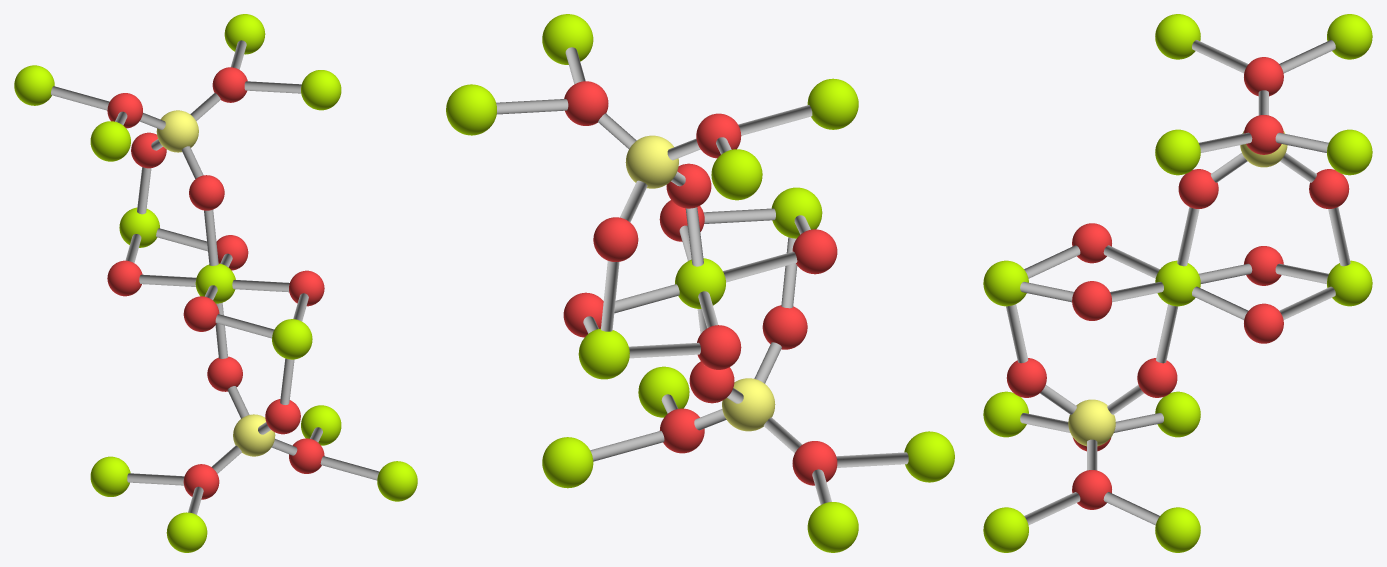
Rendered from MgSO4.gltf.
3 views of the same model, side by side, from view 1: azimuth 30°, elevation 25°; view 2: azimuth 150°, elevation 25°; view 3: azimuth 270°, elevation 25° (orthographic). The views are drawn at different scales.
Parts seen in each view (by area): view 1: MgSO4.mol; view 2: MgSO4.mol; view 3: MgSO4.mol.
Boxes of the visible parts, x1,y1,x2,y2 form: MgSO4.mol: (14,14,417,552); MgSO4.mol: (446,14,954,552); MgSO4.mol: (983,14,1372,552).
Size of the model in its own units: 6.05 by 8.76 by 7.37.
